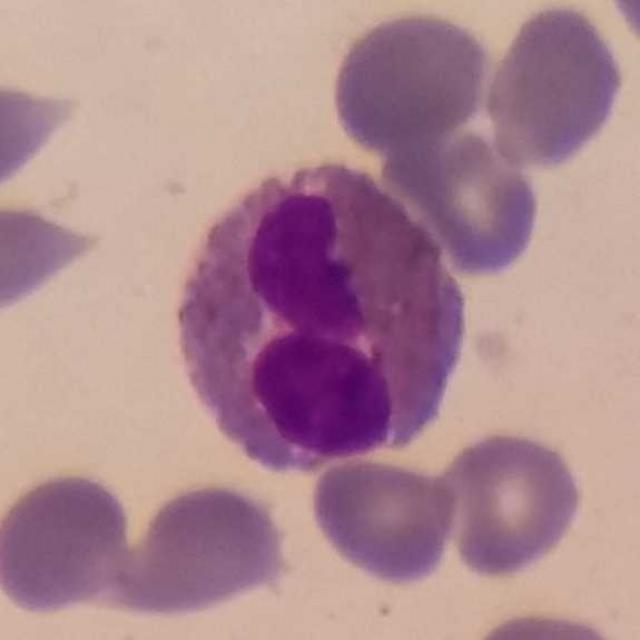Eosinophil: (168, 154, 471, 478)
RBC: (100, 477, 295, 622), (479, 0, 630, 175), (383, 120, 546, 278), (325, 5, 496, 154), (430, 424, 588, 583), (305, 452, 463, 589), (0, 465, 137, 620), (0, 193, 110, 326), (0, 67, 88, 208), (460, 604, 636, 640), (599, 0, 640, 58)
